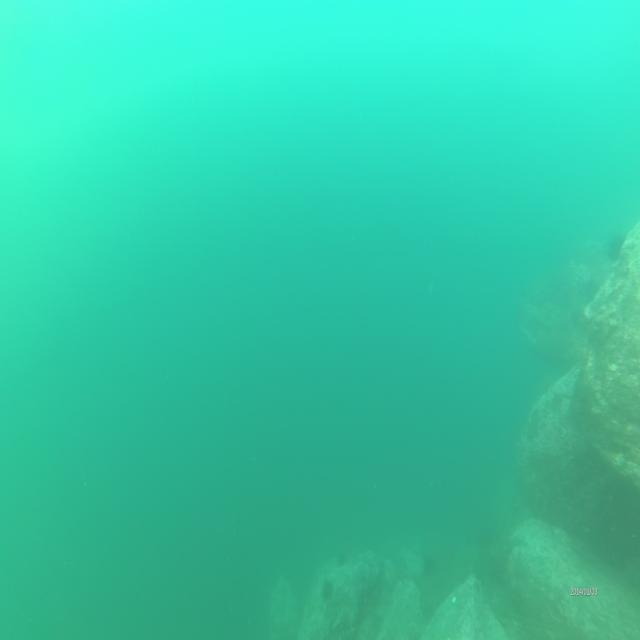echinus: (603, 230, 626, 262), (425, 551, 437, 574), (322, 578, 334, 600), (336, 550, 347, 566)
